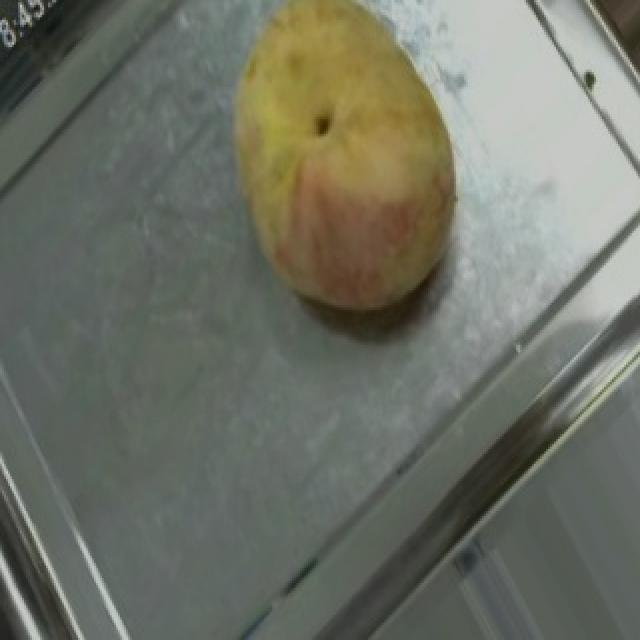Fruit: (180, 0, 504, 357)
